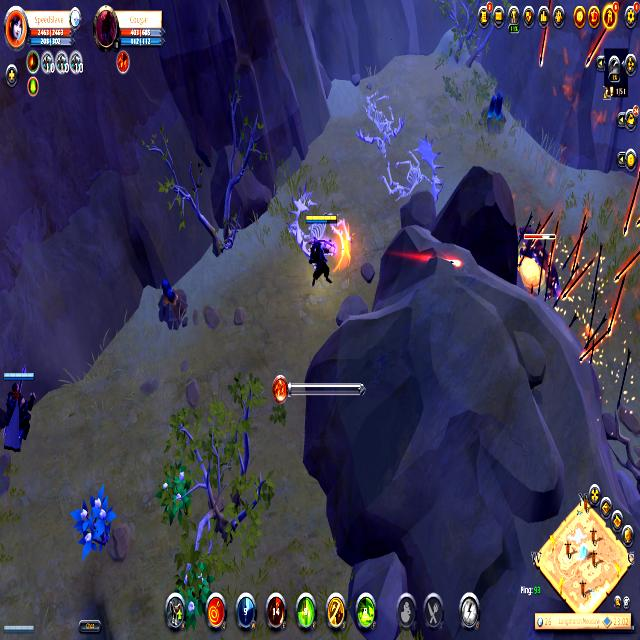hide: (172, 548, 214, 632), (73, 484, 115, 563), (158, 458, 194, 529)
ore: (518, 227, 556, 300)
player: (154, 276, 190, 338), (479, 88, 509, 141)
red: (0, 362, 35, 443), (303, 212, 337, 291), (2, 620, 37, 640)
